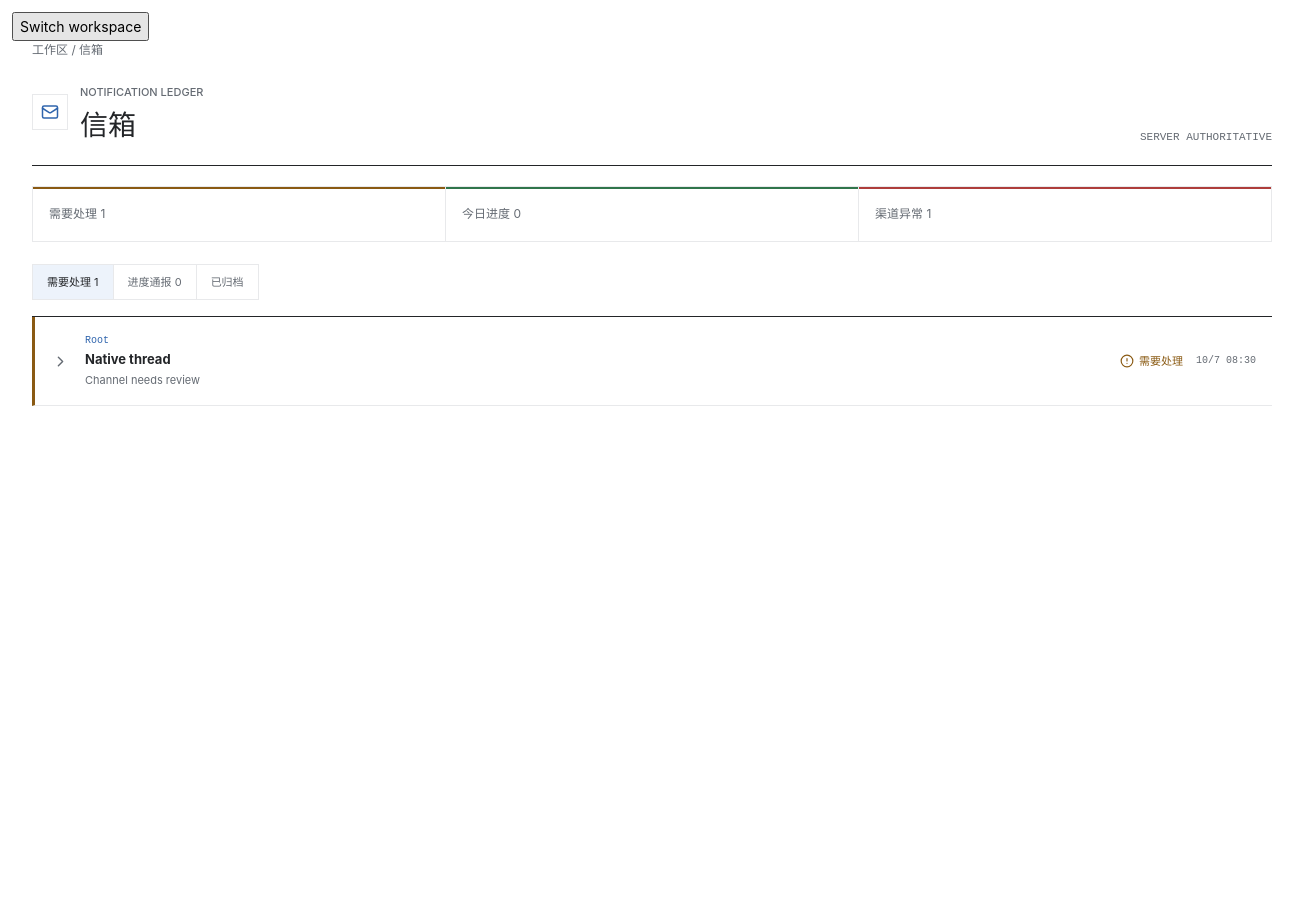
Test case: actual native InboxPage › APPLIED-null keeps original GET visible outside the collapsed row
Check: the text "Native thread" is shown, box [85, 351, 171, 367]
What coordinates should you click on to do the following:
click the button "Root Native thread Channel needs review 需要处理 10/7 08:30"
I would click on:
 (128, 359)
Its box is [35, 317, 1272, 405].
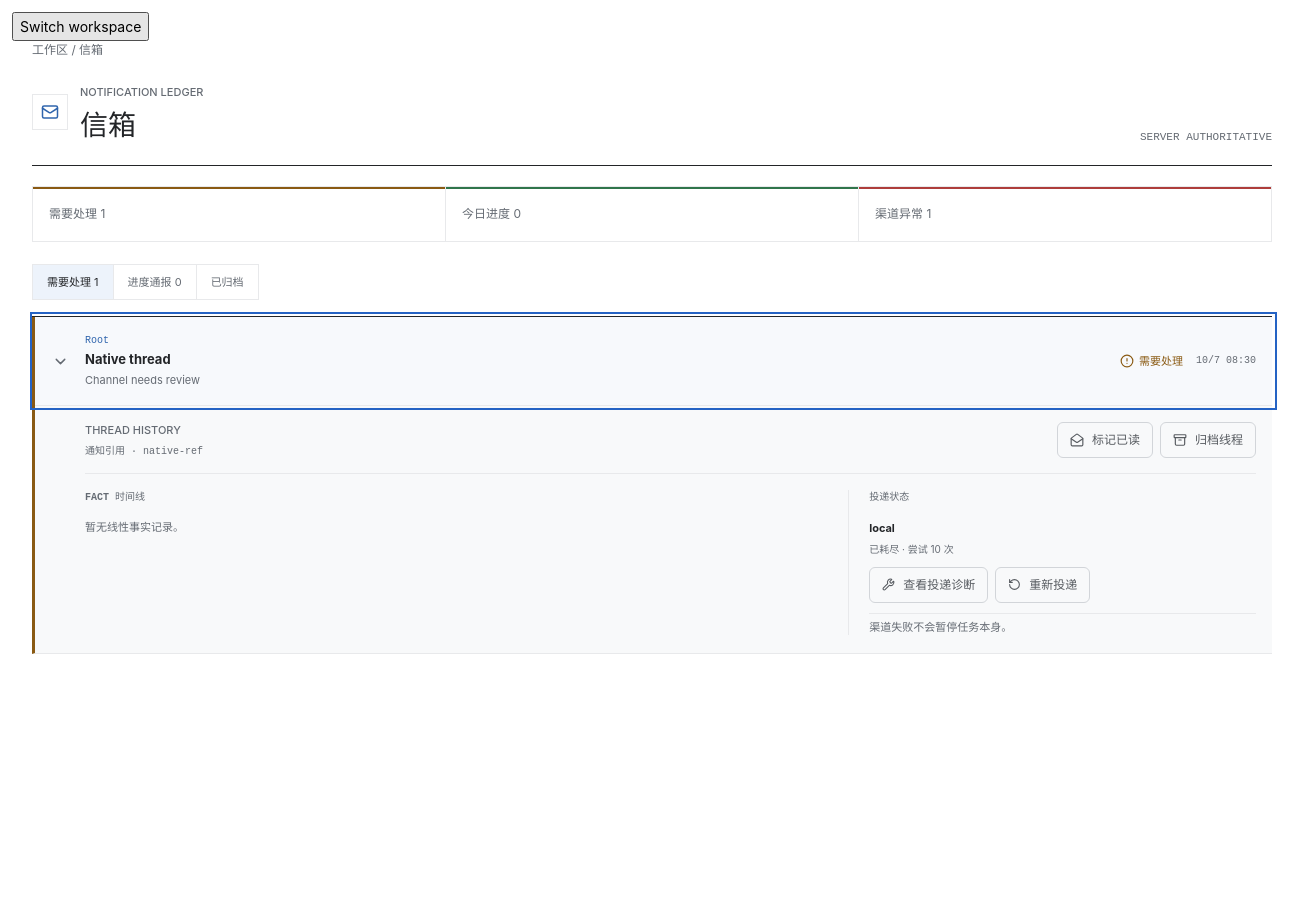
Check: the button "标记已读" is enabled
What coordinates should you click on to do the following:
click the button "标记已读"
I would click on:
 (1105, 440)
Its box is [1057, 422, 1153, 458].
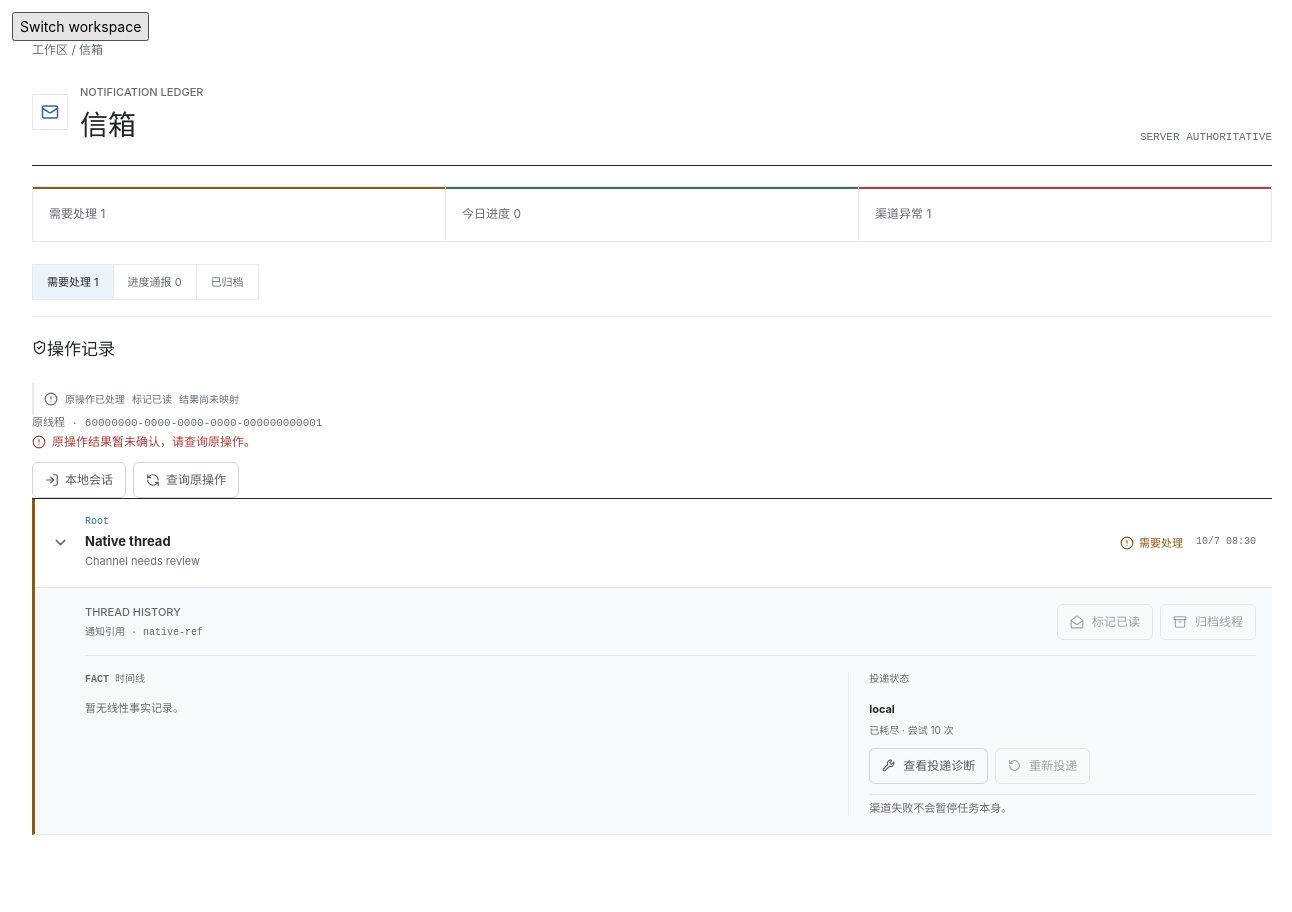
Check: the text "结果尚未映射" is shown, box [179, 392, 239, 406]
What coordinates should you click on to do the following:
click the button with aria-label "收起Native thread"
I would click on:
 (128, 541)
Its box is [35, 499, 1272, 587].
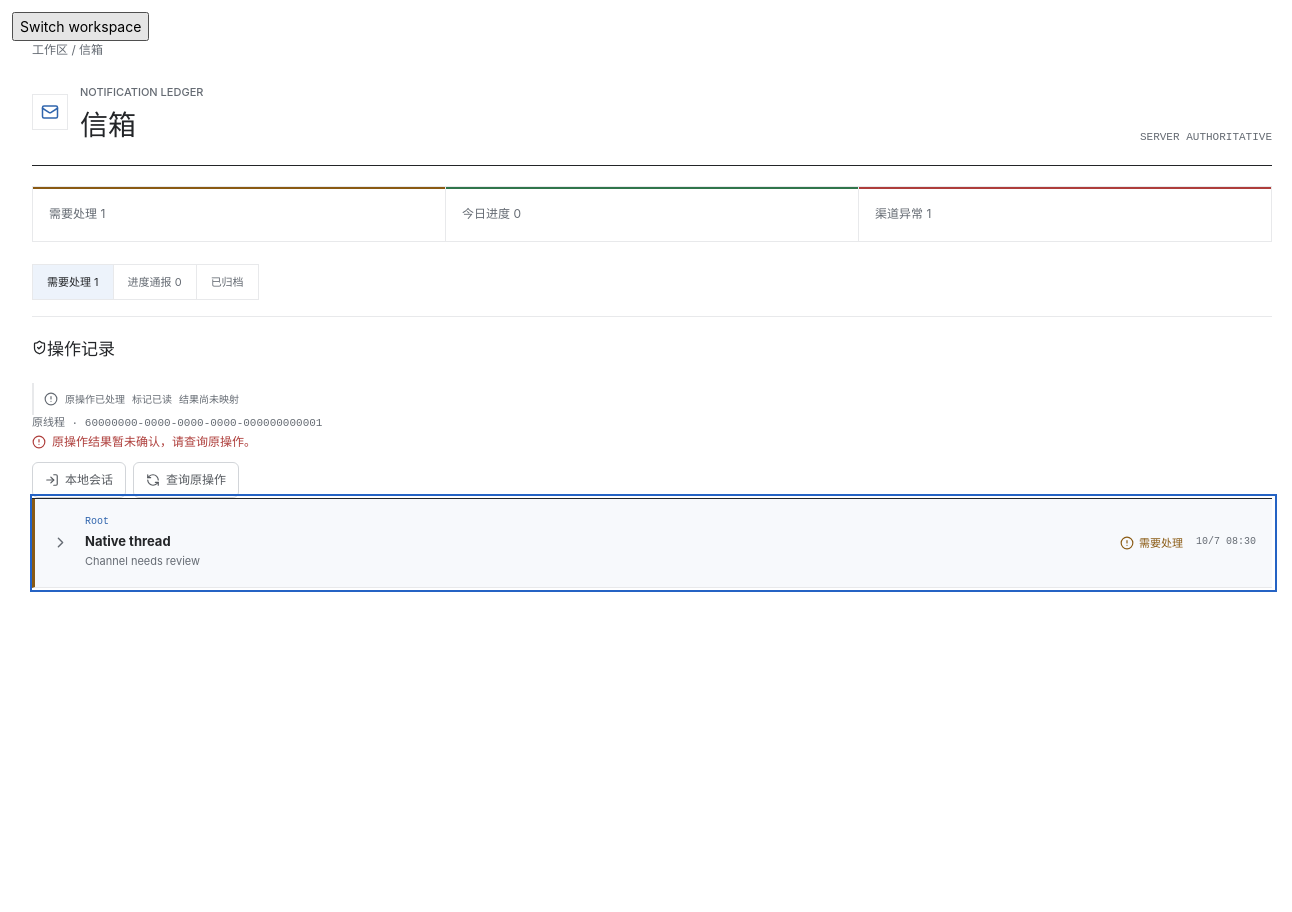
What coordinates should you click on to do the following:
click the button "查询原操作"
I would click on:
 (186, 480)
Its box is [133, 462, 239, 498].
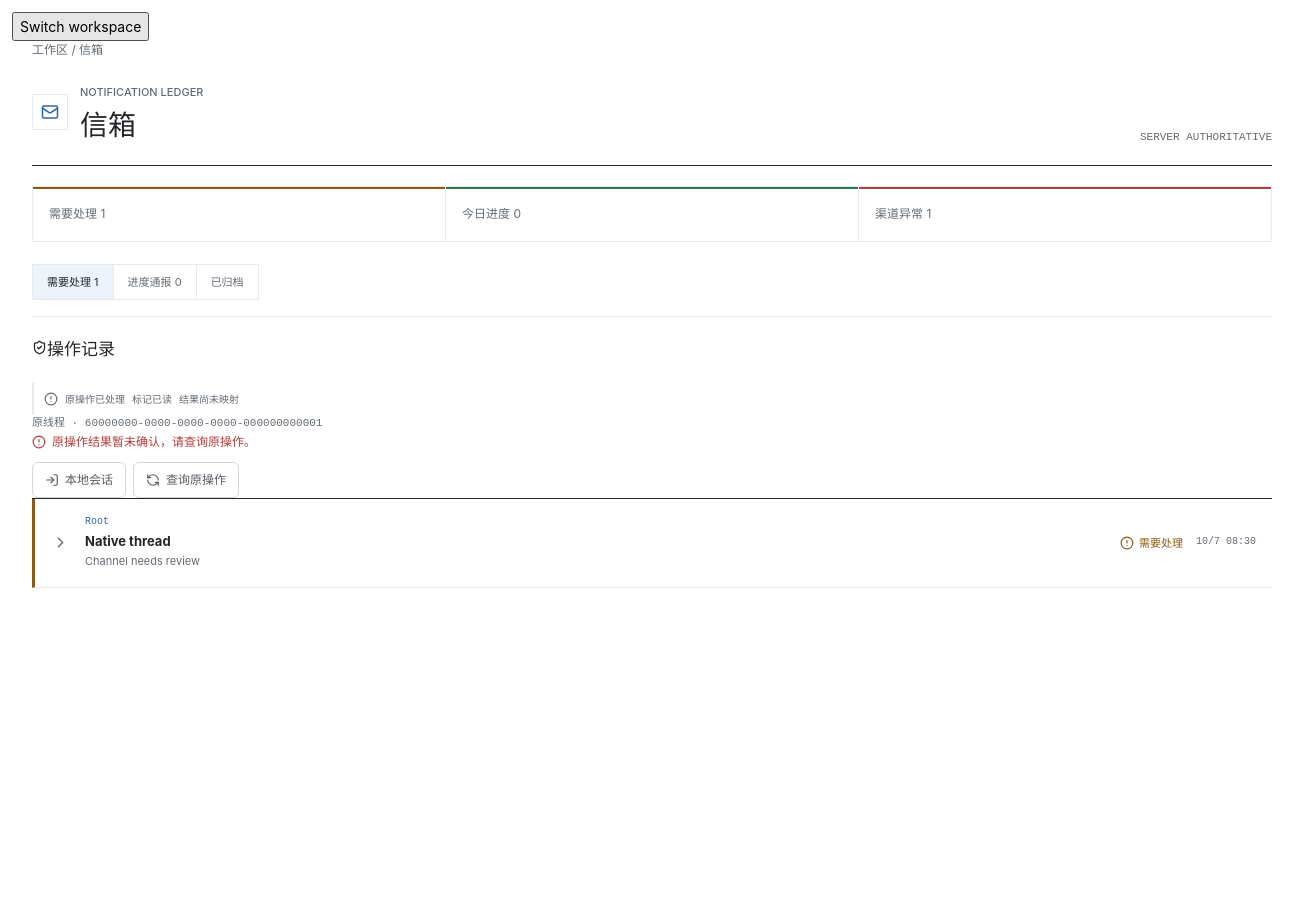
Check: the text "Native thread" is shown, box [85, 533, 171, 549]
What coordinates should you click on to do the following:
click the button "Root Native thread Channel needs review 需要处理 10/7 08:30"
I would click on:
 (128, 541)
Its box is [35, 499, 1272, 587].
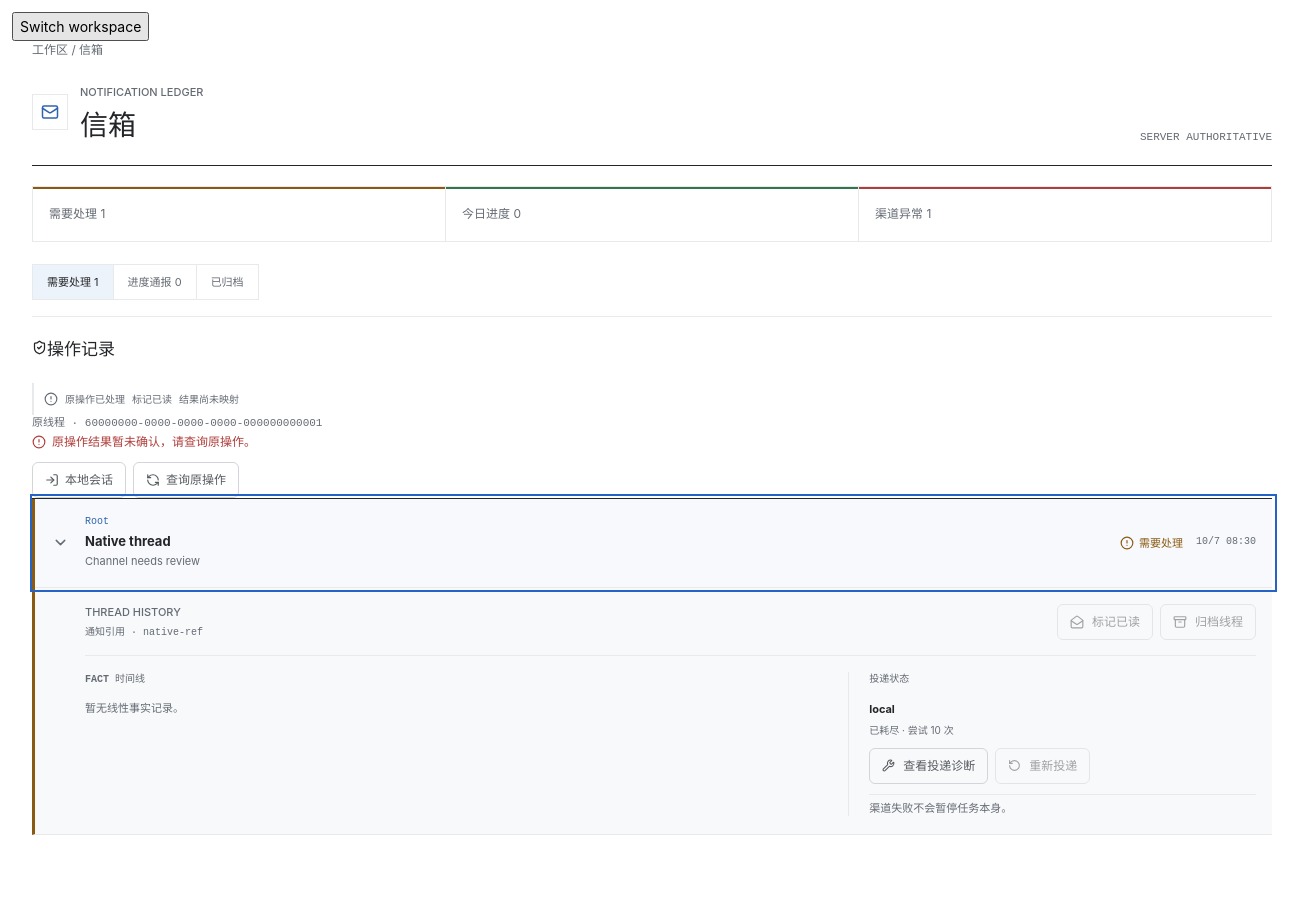
Check: the button "标记已读" is disabled, box [1057, 604, 1153, 640]
